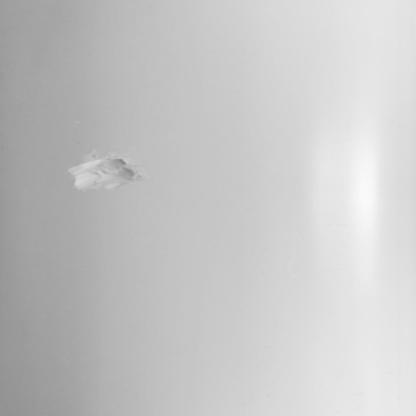sunshang: (69, 156, 142, 192)
